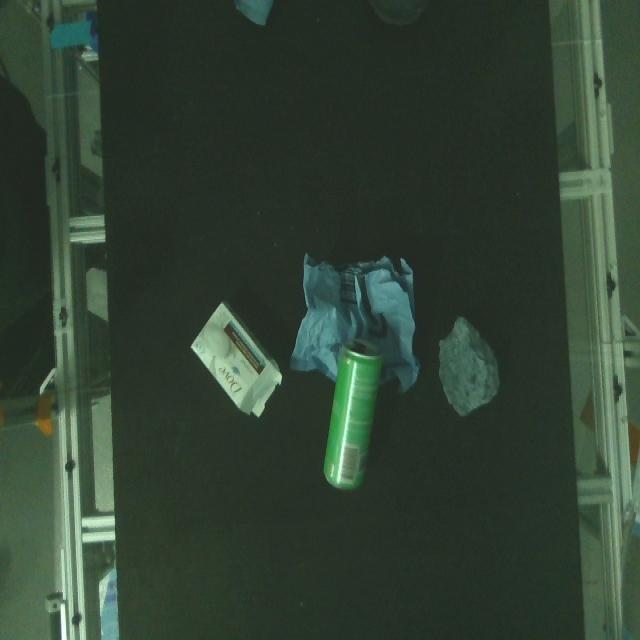non-paper: (314, 345, 395, 493), (434, 306, 504, 436)
paper: (283, 235, 429, 395), (182, 301, 295, 432)
